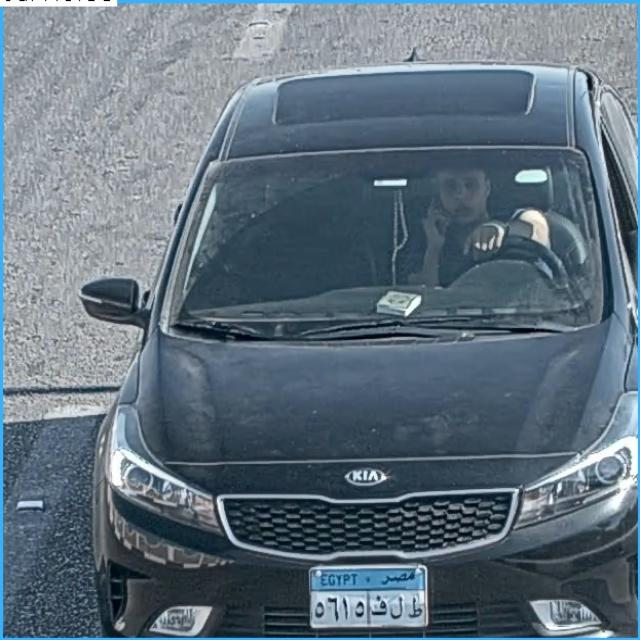windshield: (170, 146, 601, 324)
